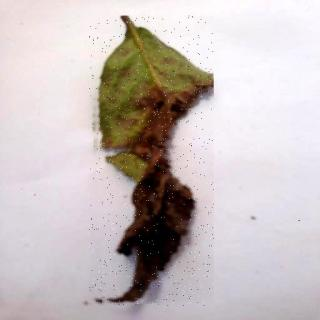Algal Leaf: (90, 17, 215, 307)
